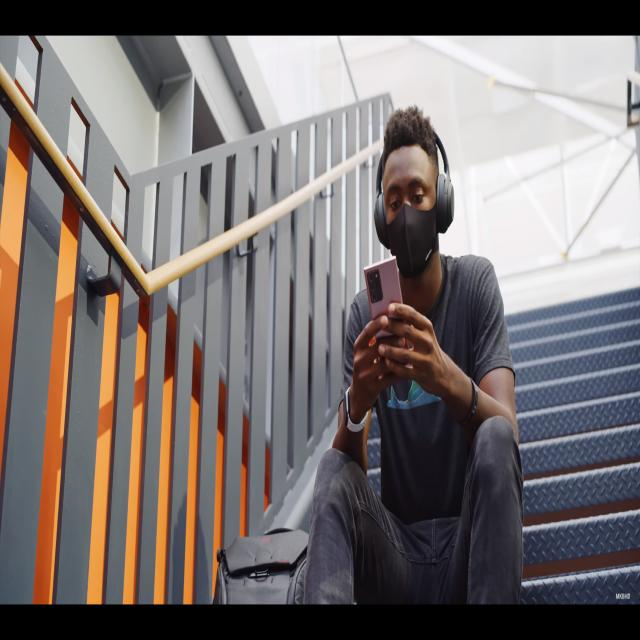Headphone: (373, 126, 455, 250)
